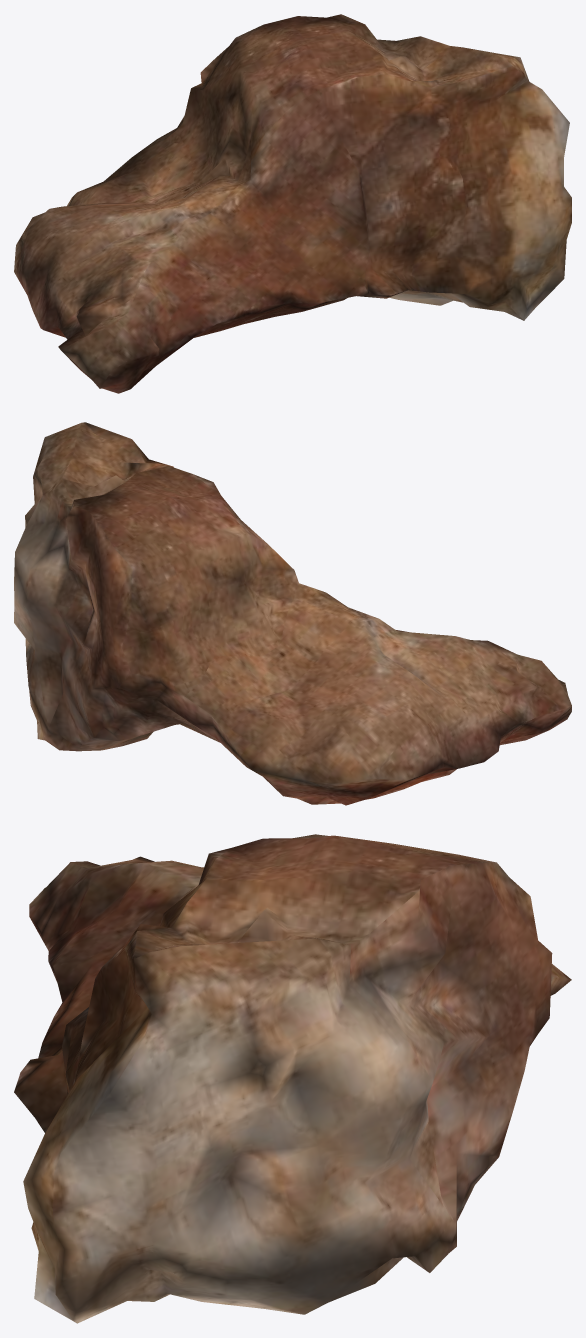
File: shard.glb
3 renders of one model, top to bottom at view 1: azimuth 30°, elevation 25°; view 2: azimuth 150°, elevation 25°; view 3: azimuth 270°, elevation 25°, orthographic. The views are drawn at different scales.
Parts seen in each view (by area): view 1: stone_01; view 2: stone_01; view 3: stone_01.
Boxes of the visible parts, x1,y1,x2,y2 form: stone_01: (14, 14, 571, 393); stone_01: (14, 422, 571, 805); stone_01: (14, 834, 571, 1323).
Size of the model in its own units: 0.1462 by 0.0704 by 0.0886.
Materials: 1 (1 with a texture image).
